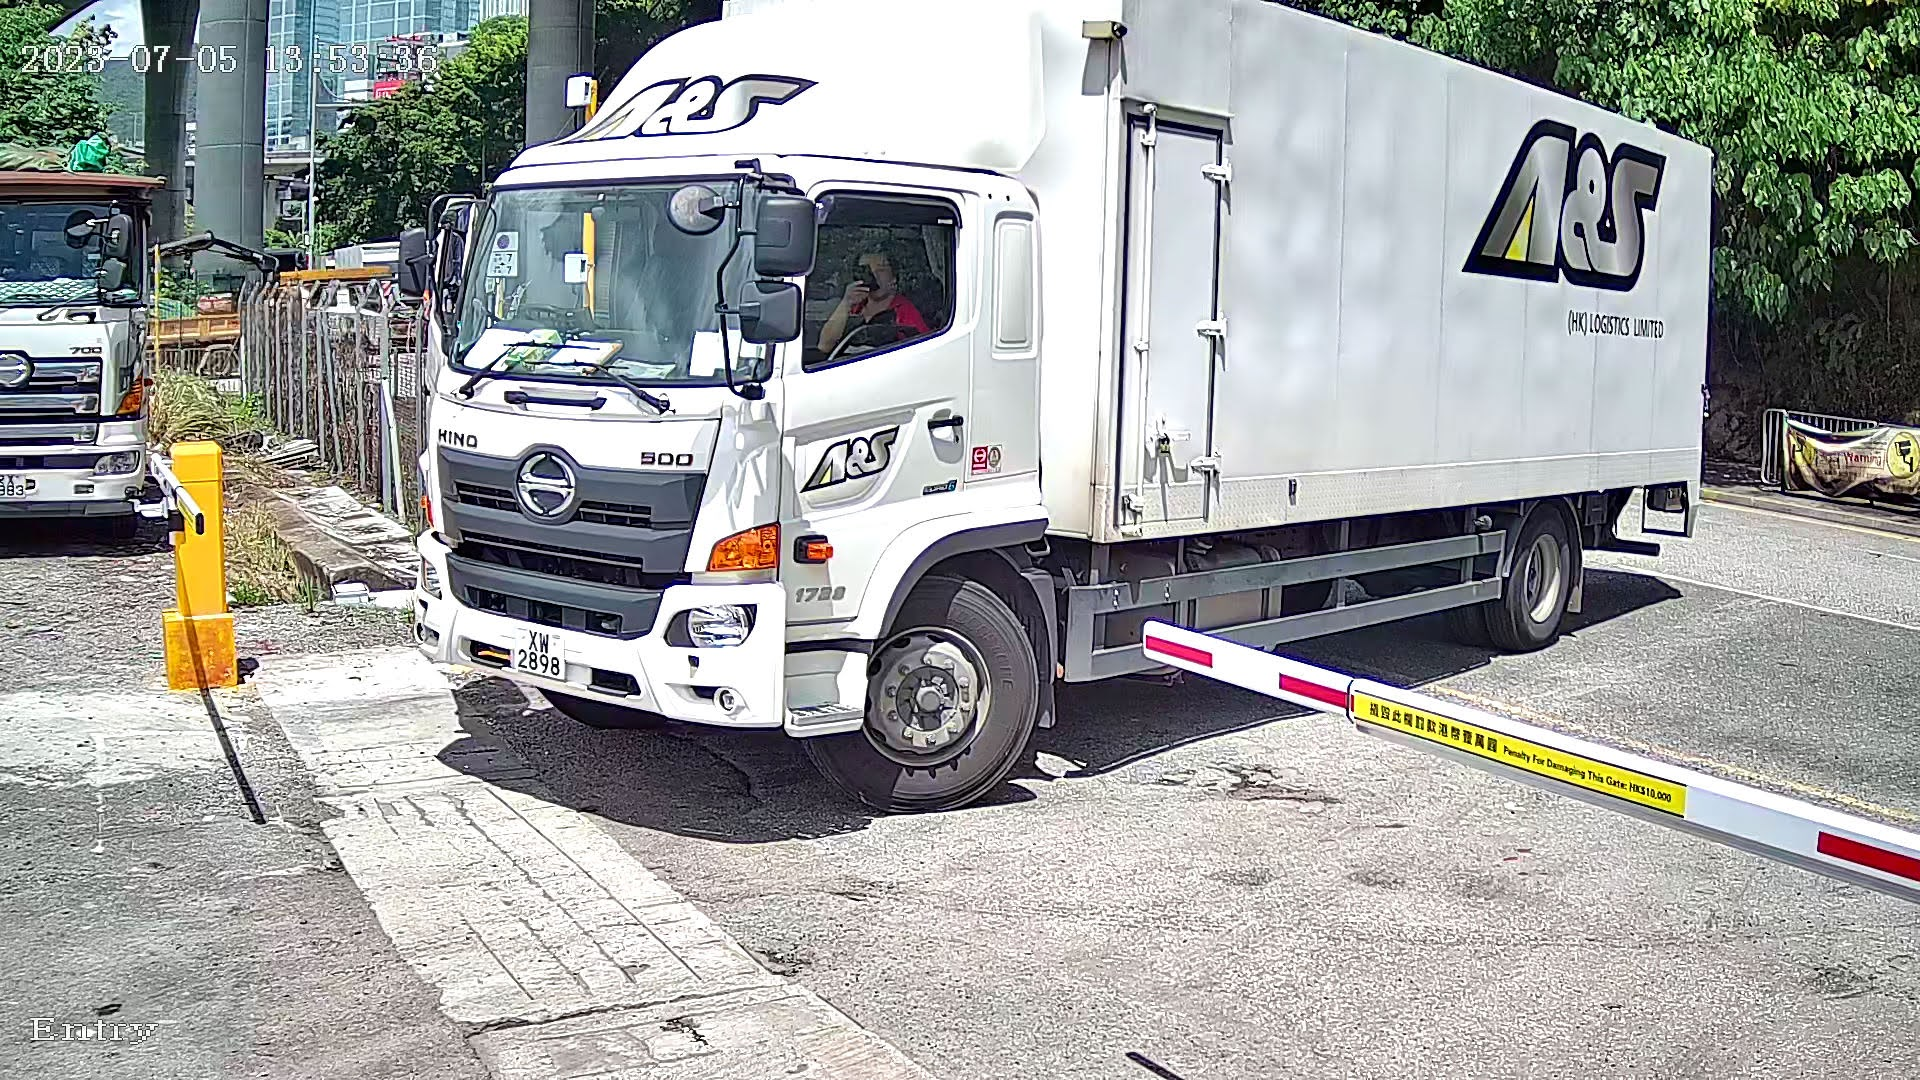truck: (393, 1, 1734, 831)
